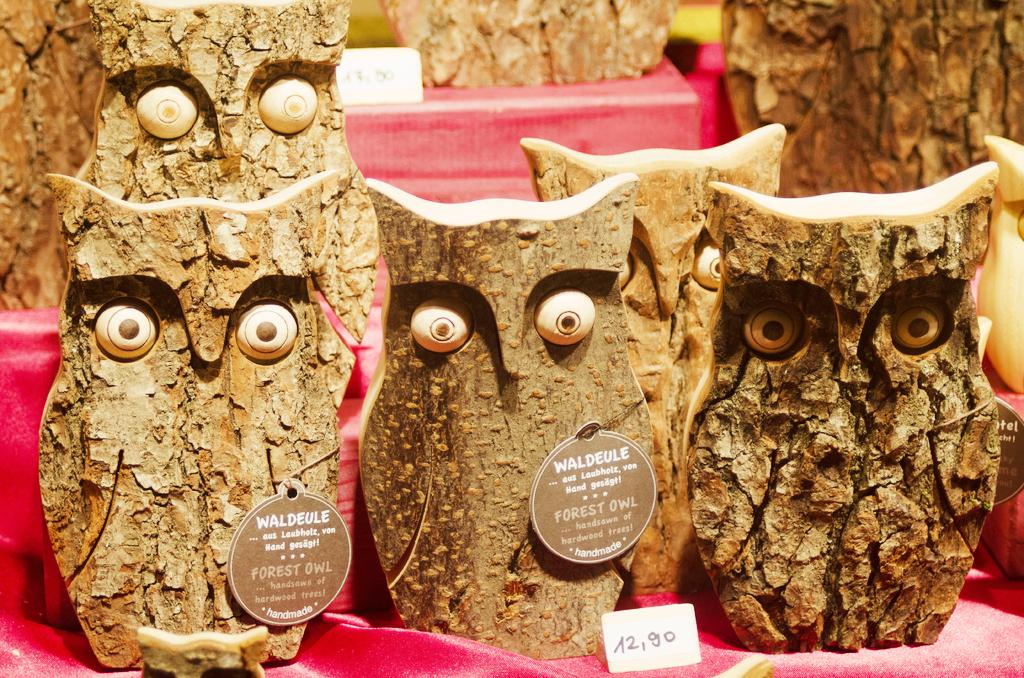Owl: (686, 163, 1006, 651), (28, 171, 340, 671), (354, 171, 650, 663), (526, 132, 782, 602), (87, 0, 377, 398)
